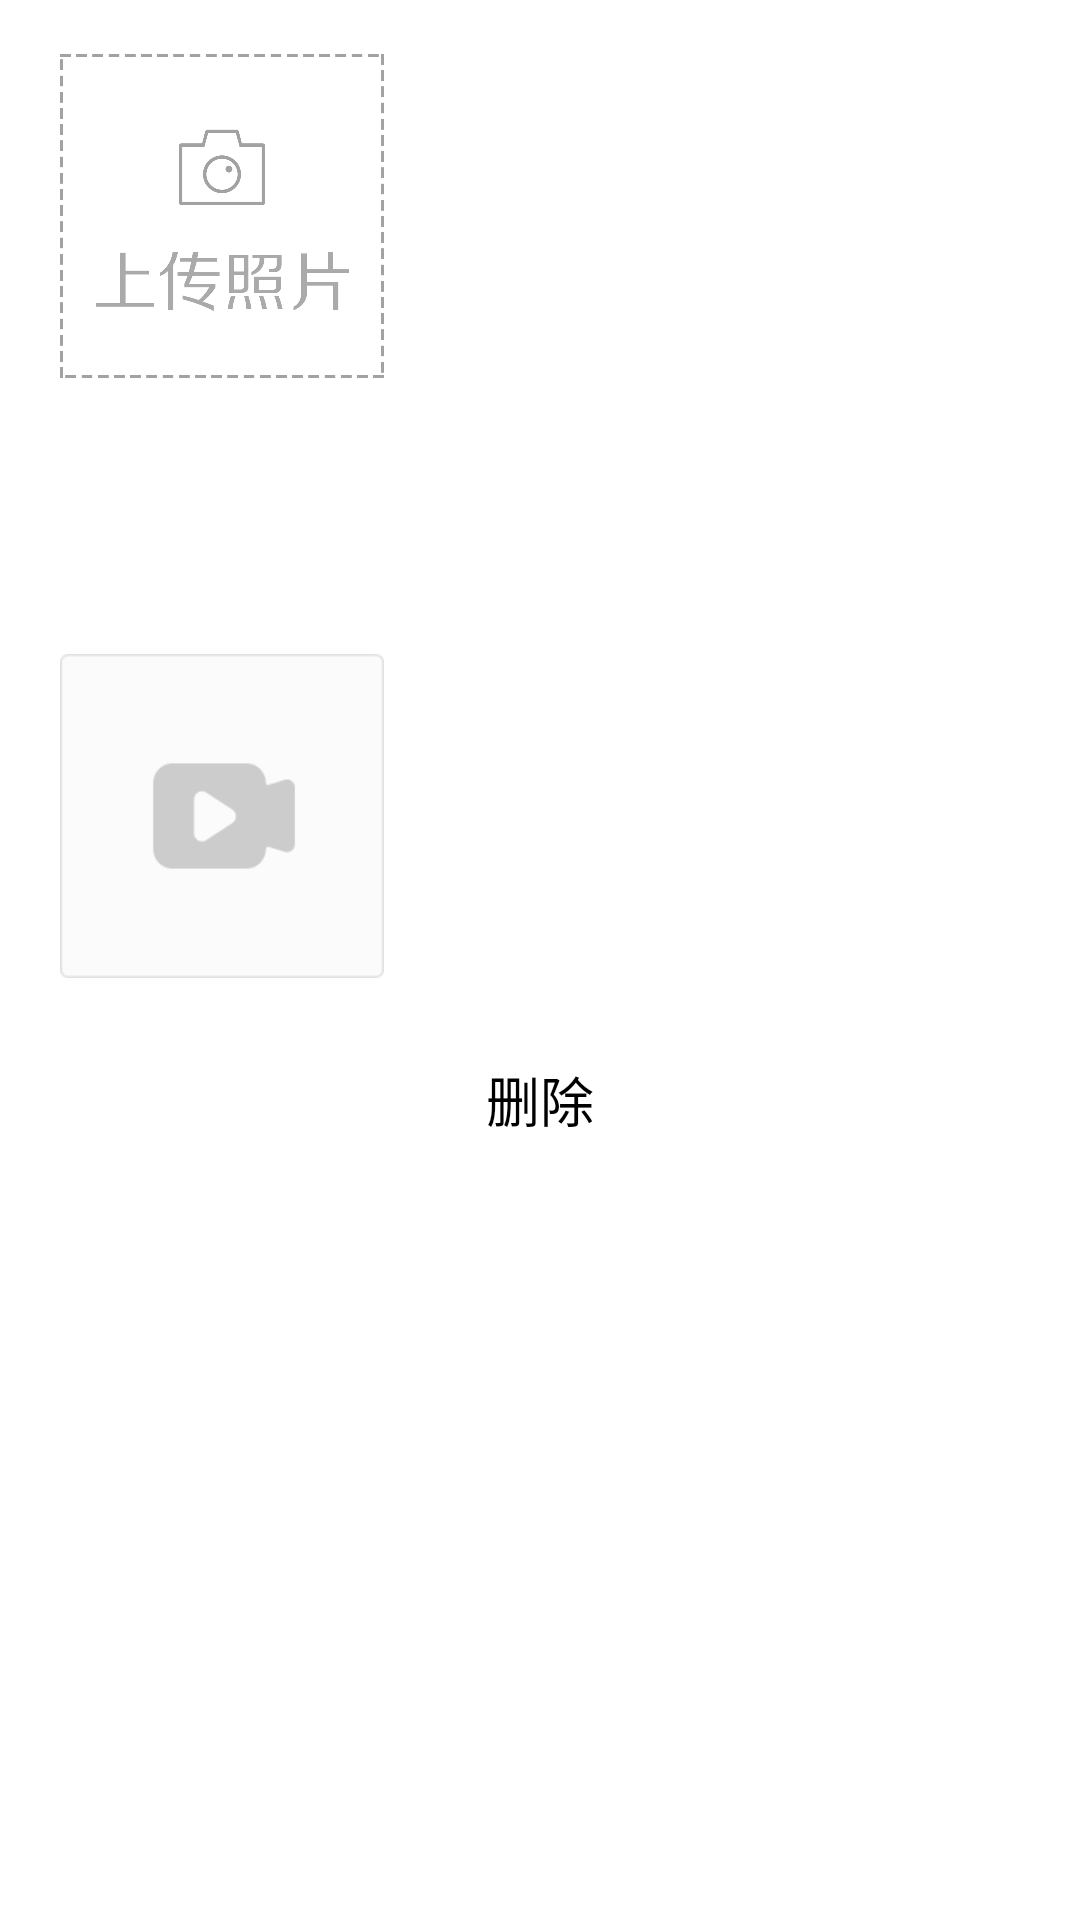

Screen size 1080 × 1920. Icon name, then its center in pixels as point (x, y):
add video house: point (222, 816)
